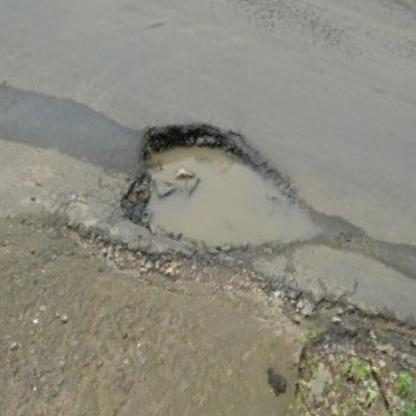pothole: (111, 98, 345, 289)
